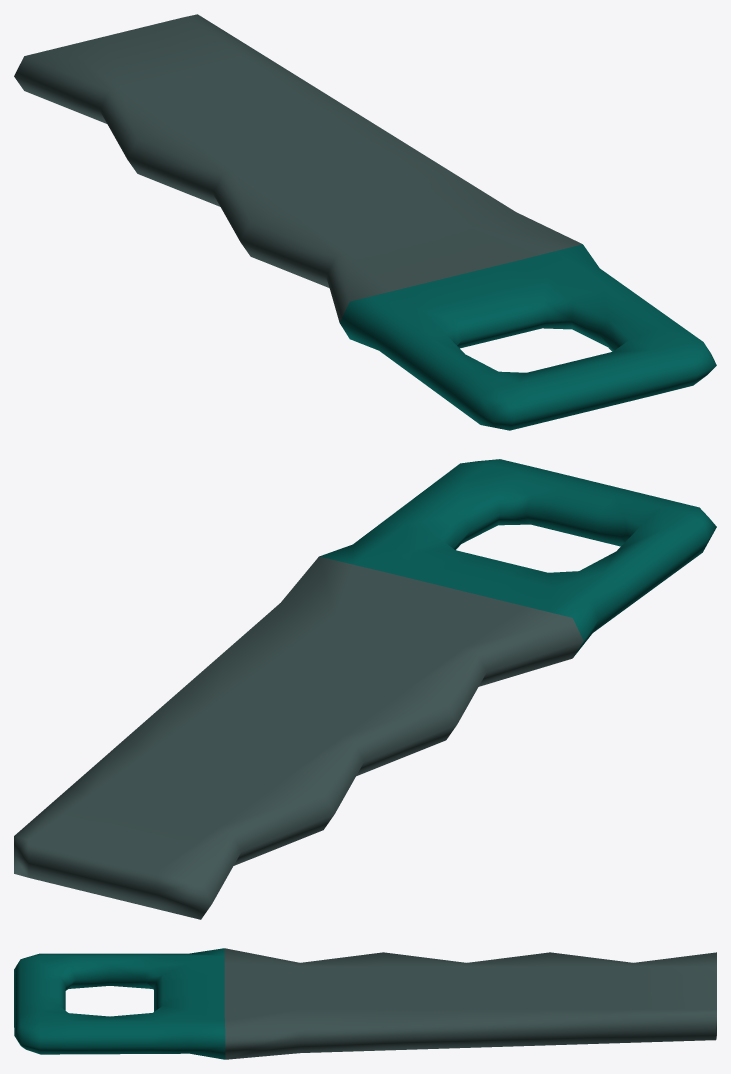
Rendered from msh_randomSaw.fbx.
The picture shows the model from 3 angles, top to bottom: view 1: azimuth 30°, elevation 25°; view 2: azimuth 150°, elevation 25°; view 3: azimuth 270°, elevation 25°; orthographic projection. The views are drawn at different scales.
Parts seen in each view (by area): view 1: pCube7; view 2: pCube7; view 3: pCube7.
Boxes of the visible parts, left/top/right/bottom form: pCube7: left=14, top=14, right=716, bottom=430; pCube7: left=14, top=459, right=716, bottom=919; pCube7: left=14, top=948, right=716, bottom=1059.
Size of the model in its own units: 45.47 by 6.6 by 152.
